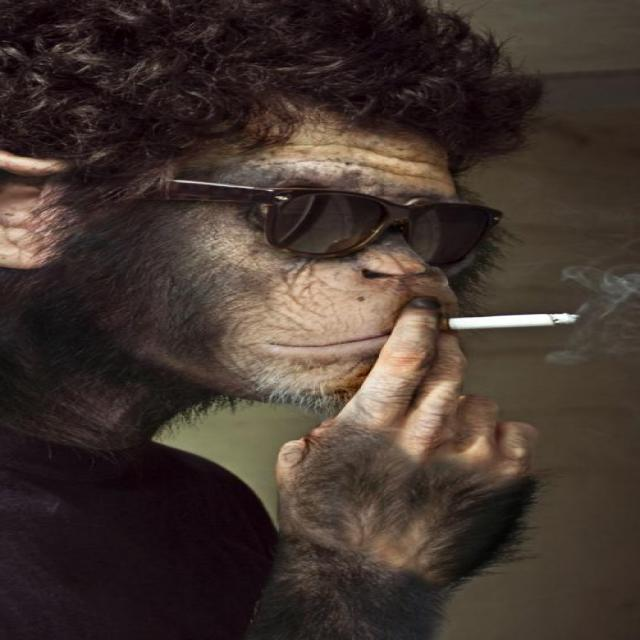smoking: (435, 302, 587, 338)
